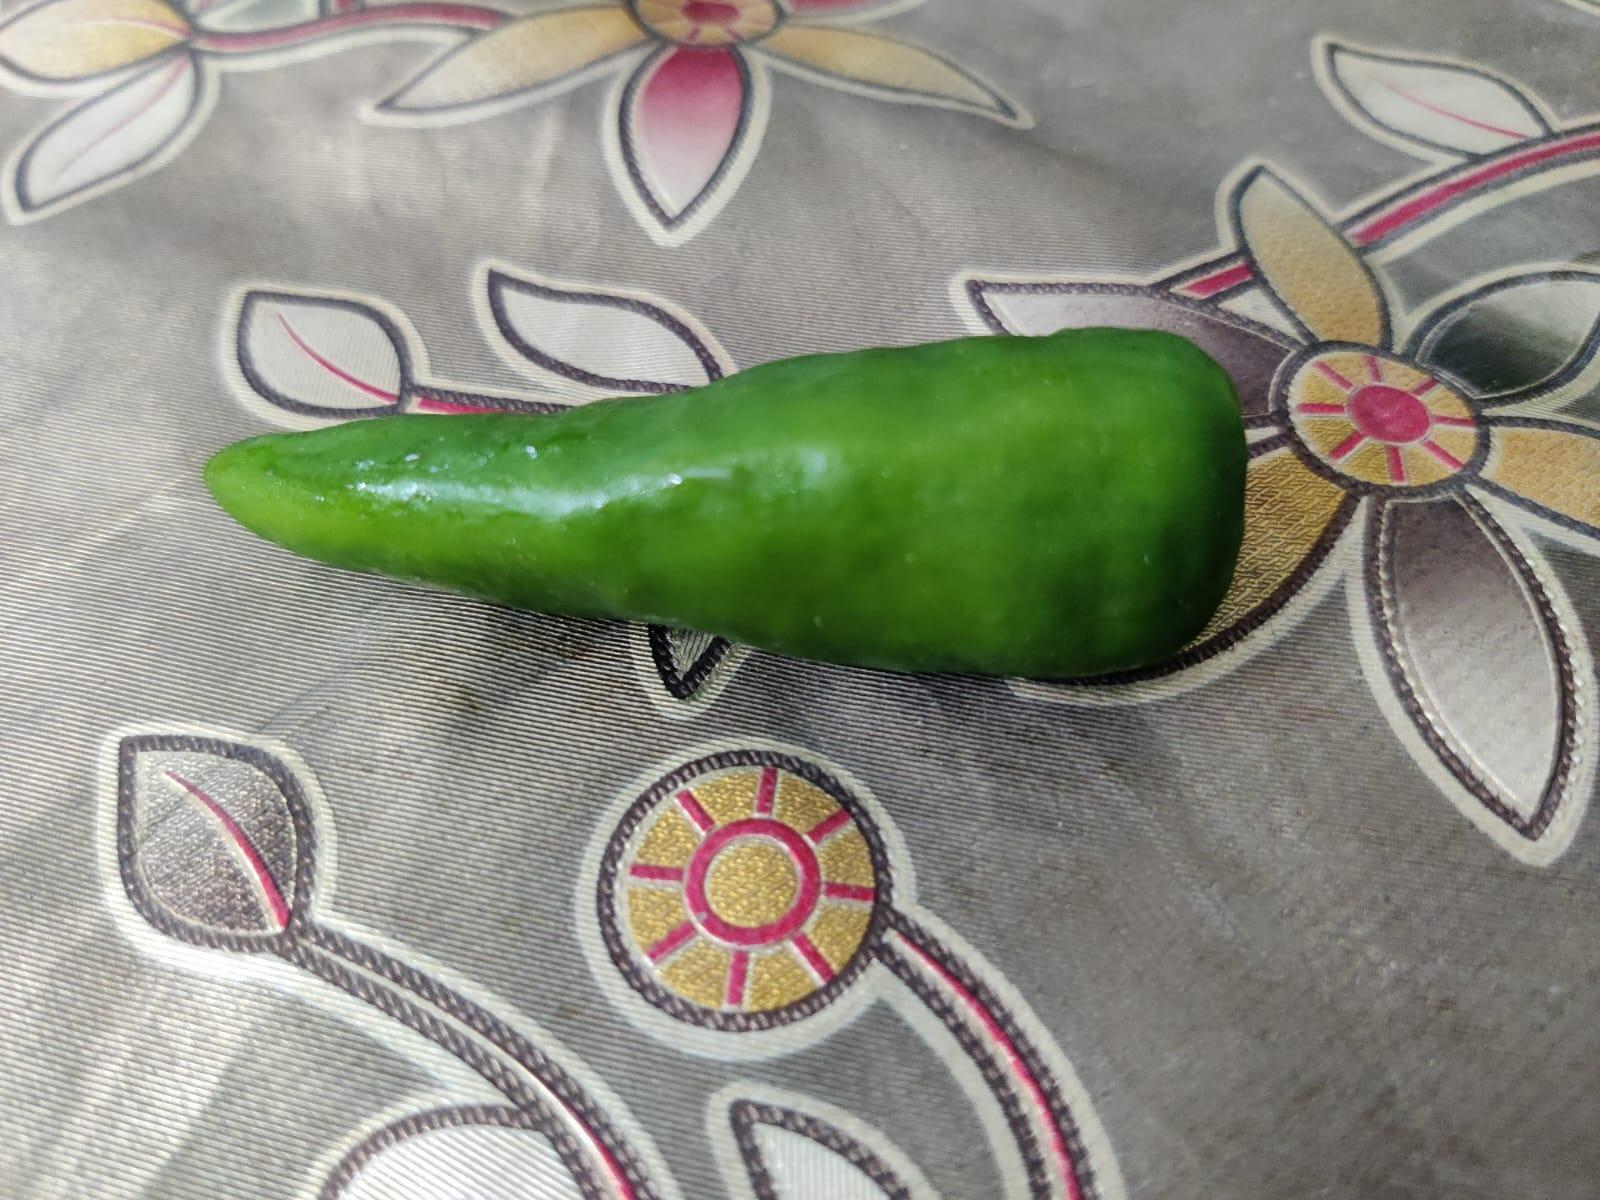non-mango: (197, 324, 1266, 683)
